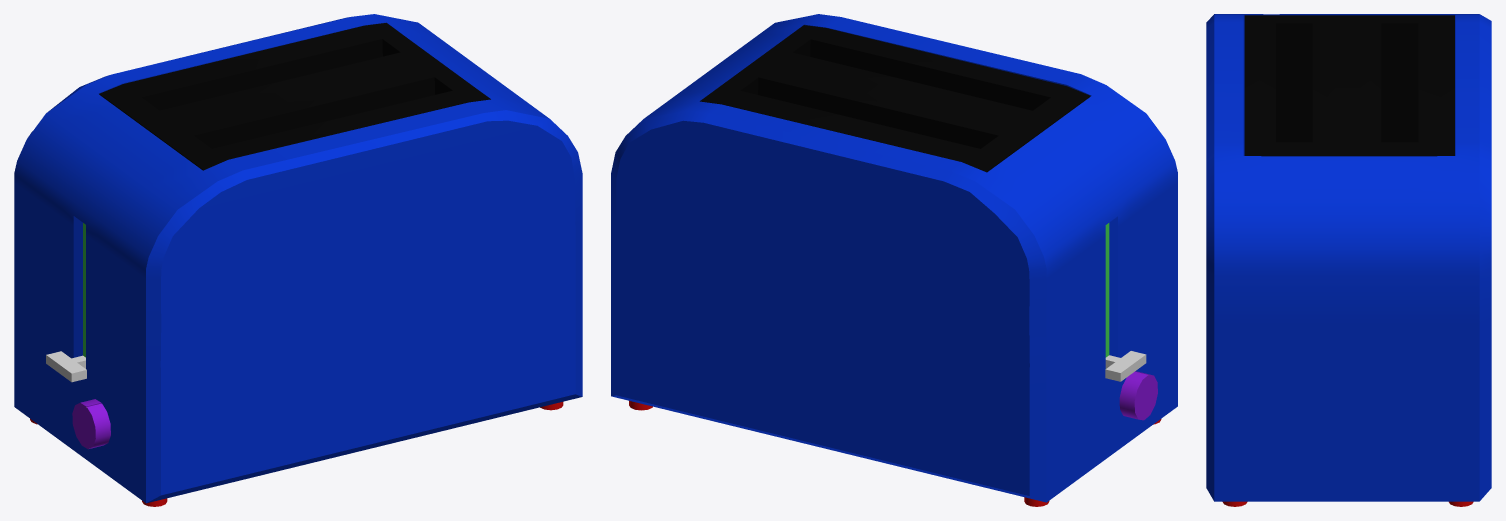
The model's file is Toaster.fbx.
The picture shows the model from 3 angles, left to right: view 1: azimuth 30°, elevation 25°; view 2: azimuth 150°, elevation 25°; view 3: azimuth 270°, elevation 25°; orthographic projection.
Parts seen in each view (by area): view 1: Toaster, Knob, Switch; view 2: Toaster, Knob, Switch; view 3: Toaster.
Boxes of the visible parts, x1,y1,x2,y2 form: Toaster: (14, 14, 582, 506); Knob: (72, 399, 110, 449); Switch: (46, 351, 86, 382); Toaster: (611, 14, 1177, 506); Knob: (1119, 371, 1157, 420); Switch: (1105, 351, 1146, 381); Toaster: (1206, 14, 1491, 506).
Size of the model in its own units: 0.2358 by 0.1574 by 0.1262.
